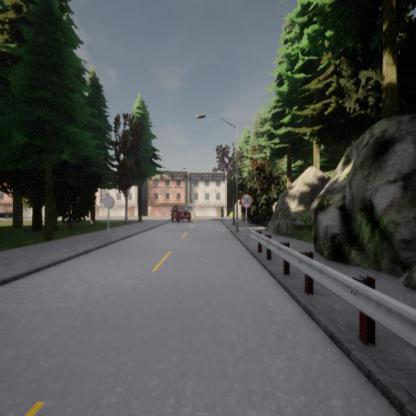traffic_sign_30: (240, 195, 252, 207)
vehicle: (170, 206, 192, 222)
